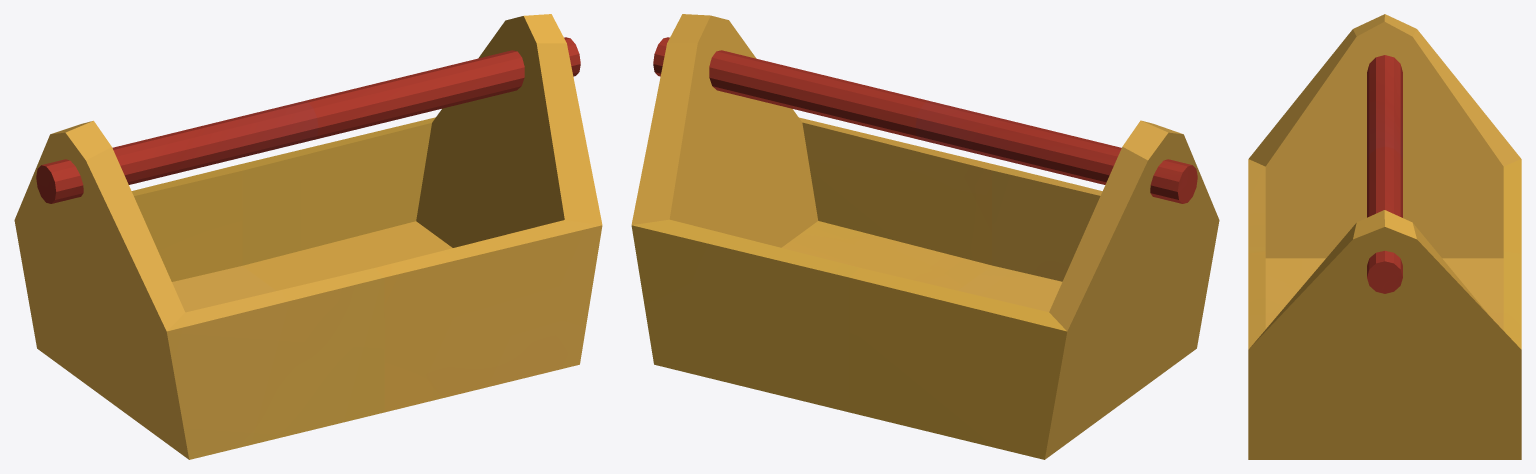
Rendered from CajaRojo.FBX.
The picture shows the model from 3 angles, left to right: view 1: azimuth 30°, elevation 25°; view 2: azimuth 150°, elevation 25°; view 3: azimuth 270°, elevation 25°; orthographic projection. The views are drawn at different scales.
Parts seen in each view (by area): view 1: CajaRojo; view 2: CajaRojo; view 3: CajaRojo.
Part boxes in pixels (bbox=[...]): CajaRojo: bbox=[14, 14, 602, 459]; CajaRojo: bbox=[631, 14, 1219, 459]; CajaRojo: bbox=[1248, 14, 1521, 459].
Bounding box in the file's own units: 38.84 × 20.42 × 19.52.
